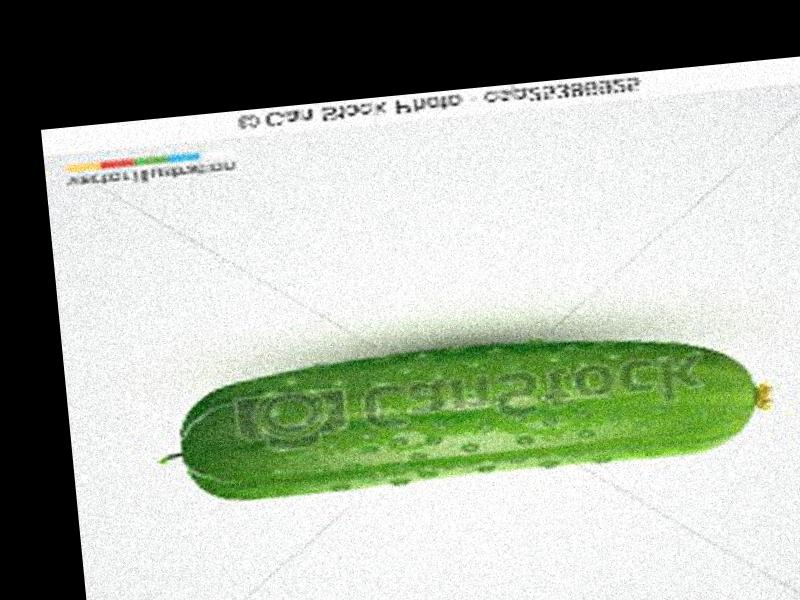Cucumber: (150, 319, 780, 510)
